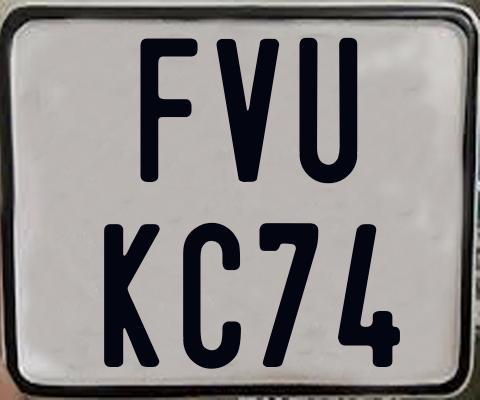4: (335, 223, 403, 369)
7: (256, 221, 320, 368)
C: (182, 222, 244, 368)
F: (137, 38, 197, 183)
K: (104, 222, 163, 370)
U: (296, 38, 354, 189)
V: (213, 39, 280, 183)
